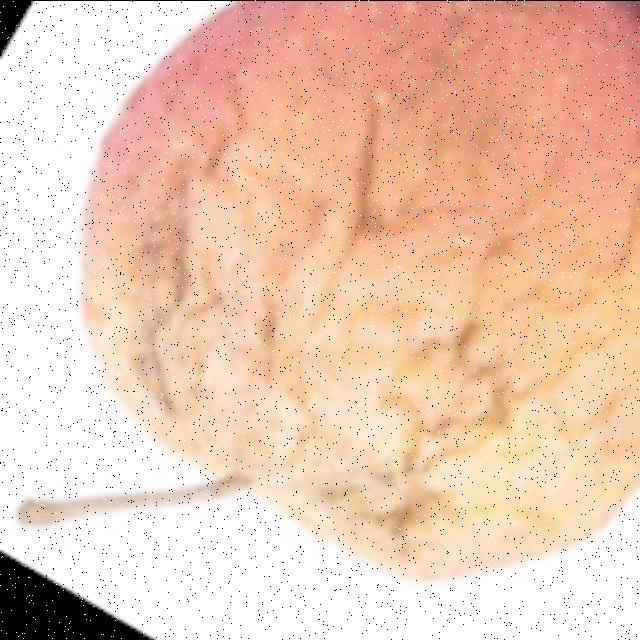Apel Tidak Segar: (81, 0, 640, 577)
